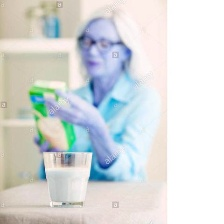carton: (25, 78, 80, 153)
glass: (40, 149, 95, 209)
